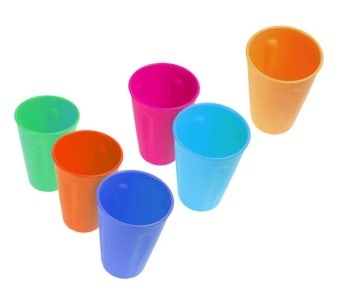plastic: (244, 25, 324, 135)
